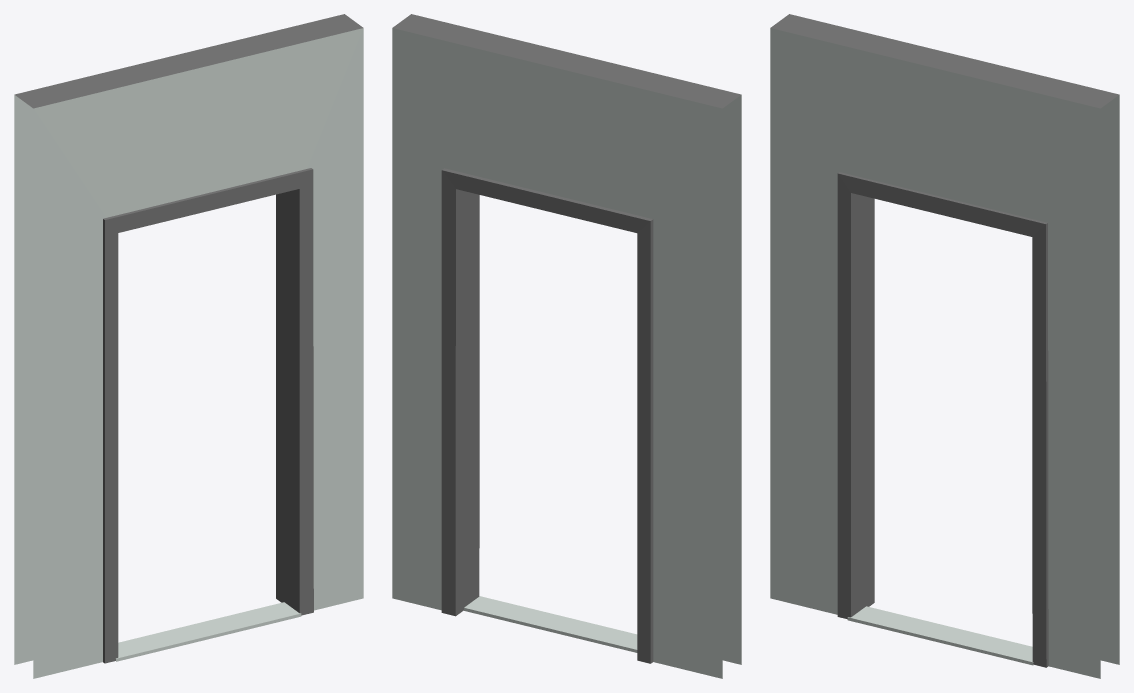
File: SM_DoorFrame_A1_200.fbx
3 views of the same model, side by side, from view 1: azimuth 30°, elevation 25°; view 2: azimuth 150°, elevation 25°; view 3: azimuth 330°, elevation 25° (orthographic).
Parts seen in each view (by area): view 1: SM_DoorFrame_A1_200; view 2: SM_DoorFrame_A1_200; view 3: SM_DoorFrame_A1_200.
Boxes of the visible parts, x1=… form: SM_DoorFrame_A1_200: x1=14, y1=14, x2=363, y2=678; SM_DoorFrame_A1_200: x1=392, y1=14, x2=741, y2=678; SM_DoorFrame_A1_200: x1=770, y1=14, x2=1119, y2=678.
Size of the model in its own units: 200 by 330 by 25.42.
